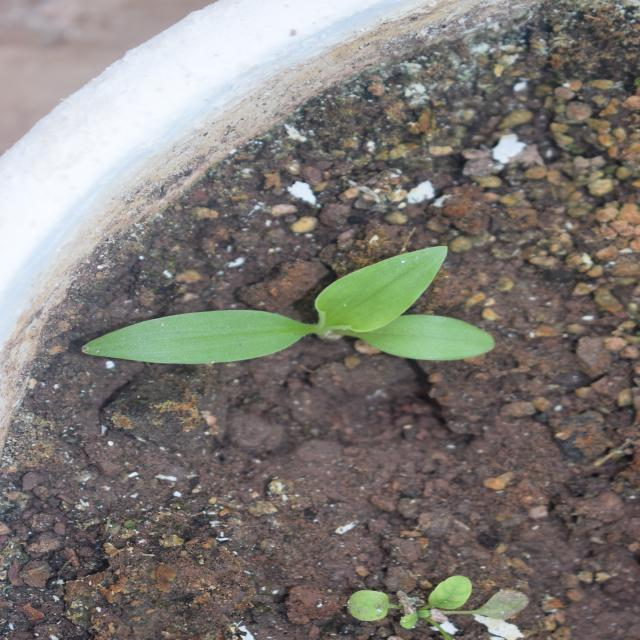Common Dayflower: (254, 157, 372, 562)
